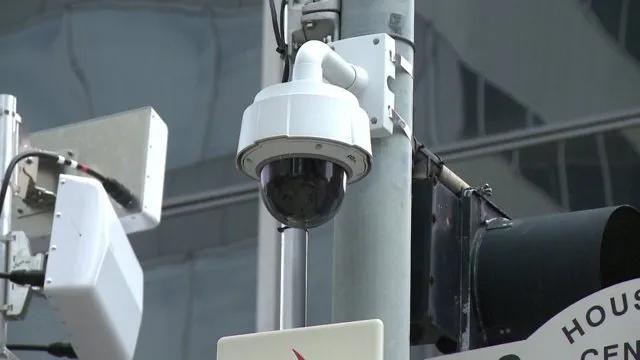camera: (225, 71, 384, 231)
